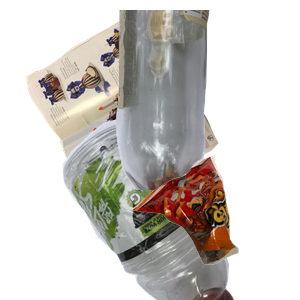glass: (113, 10, 300, 190)
paper: (24, 10, 235, 190)
plastic: (25, 120, 252, 300)
trash: (130, 153, 300, 300)
